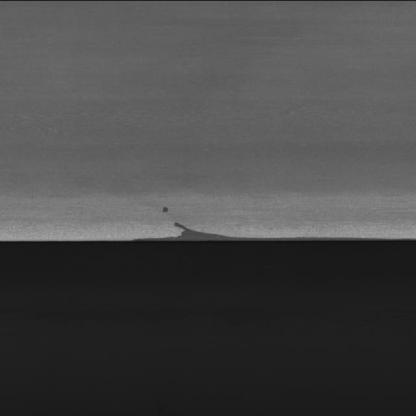water_spot: (128, 204, 278, 248)
